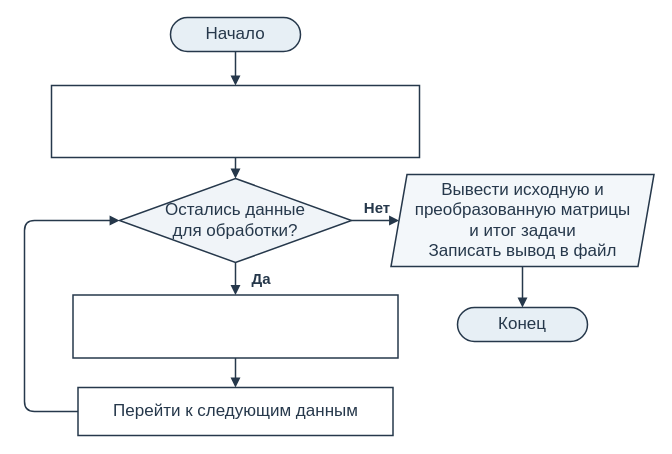
The diagram is 672 pixels wide and 454 high, and some of its shapes have lost their labels. The shapes that lost their labels are listed below. From the top down, each one's centre as x and y in pixels, then its label:
the point at 235,121: Заполнить список случайными числами Размер 8 × 10, диапазон [-40; 60]
the point at 235,326: Проверить условие отбора Добавить элемент или ноль
